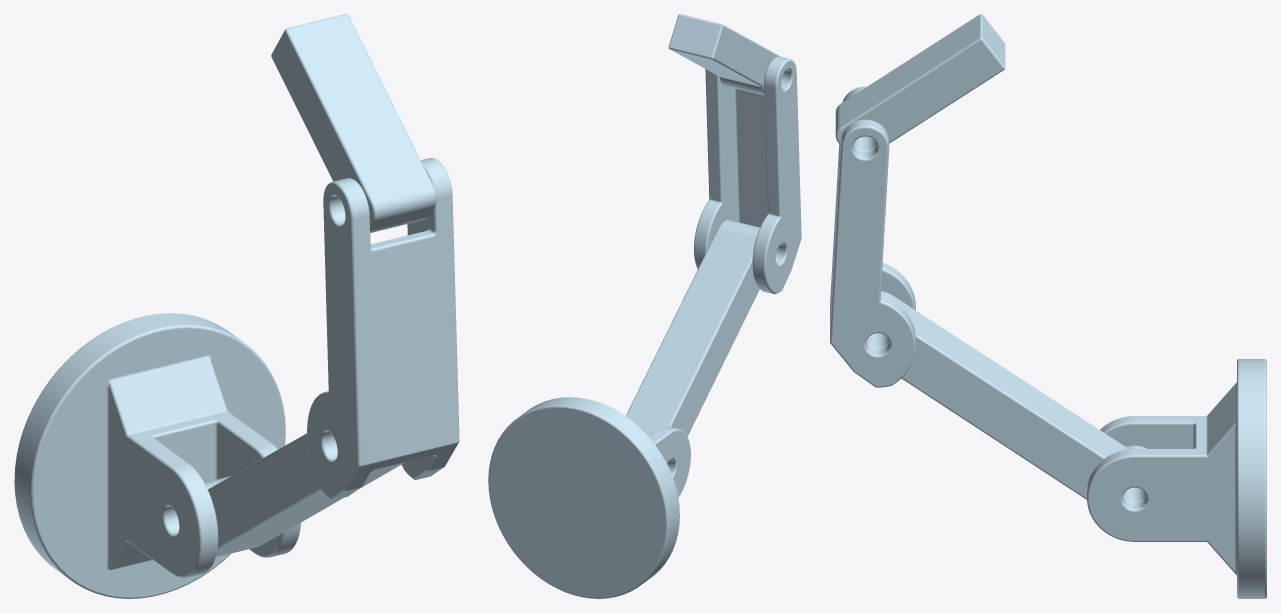
The model's file is ArmAssembly.gltf.
3 renders of one model, left to right at view 1: azimuth 30°, elevation 25°; view 2: azimuth 150°, elevation 25°; view 3: azimuth 270°, elevation 25°, orthographic. The views are drawn at different scales.
Parts seen in each view (by area): view 1: Part 1 (×4); view 2: Part 1 (×4); view 3: Part 1 (×4).
Part boxes in pixels (box(x1,y1,x2,y2)): Part 1 (×4): box(14, 14, 459, 598); Part 1 (×4): box(488, 14, 801, 598); Part 1 (×4): box(830, 14, 1266, 598).
Size of the model in its own units: 0.1 by 0.2583 by 0.182.
